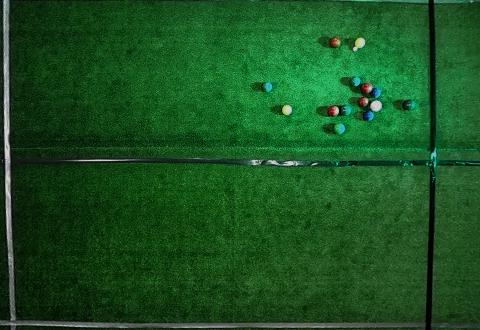blue: (370, 87, 381, 98), (363, 111, 374, 121)
green: (333, 123, 345, 134), (403, 99, 415, 110), (340, 105, 351, 116), (350, 77, 361, 87), (262, 82, 272, 92)
red: (360, 82, 372, 94), (370, 100, 382, 112), (329, 37, 341, 48), (327, 105, 339, 116), (357, 97, 369, 107)
vline: (425, 1, 480, 329), (0, 1, 20, 329)
white: (353, 47, 358, 51)
yellow: (355, 37, 365, 48), (282, 105, 292, 115)
